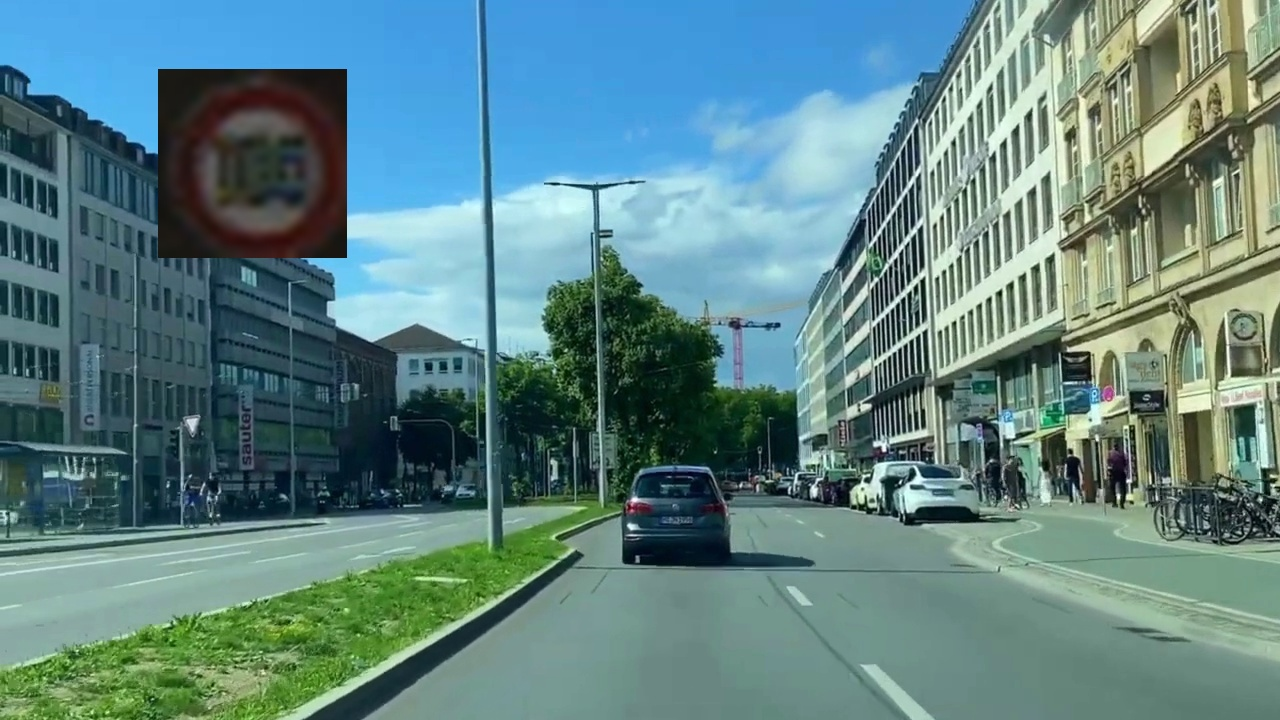Speed 100: (158, 69, 347, 258)
